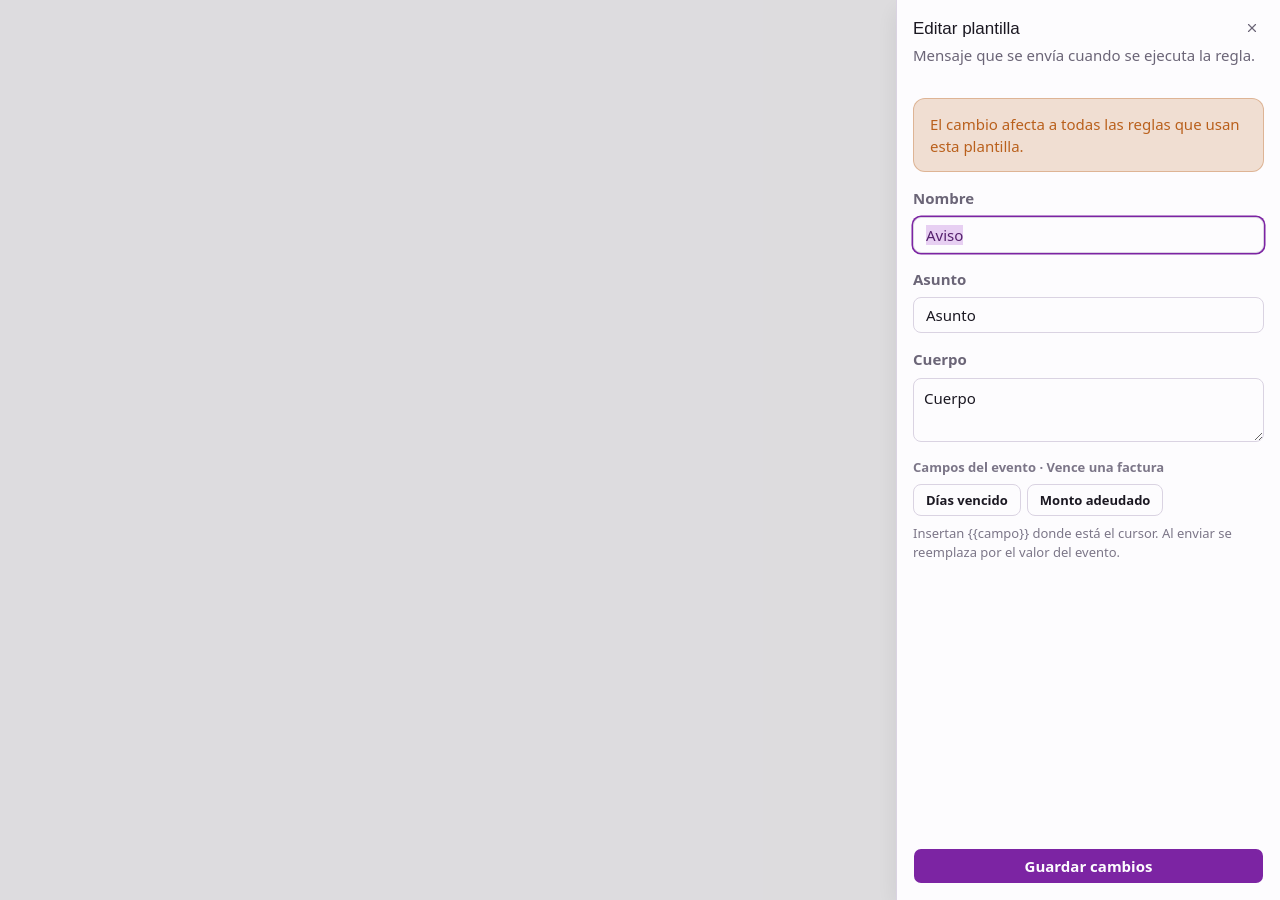
PlantillaSheet › muestra el detalle del backend ante un 409 sin cerrar
Click the button "Guardar cambios" at (1088, 866), box [913,848,1264,884]
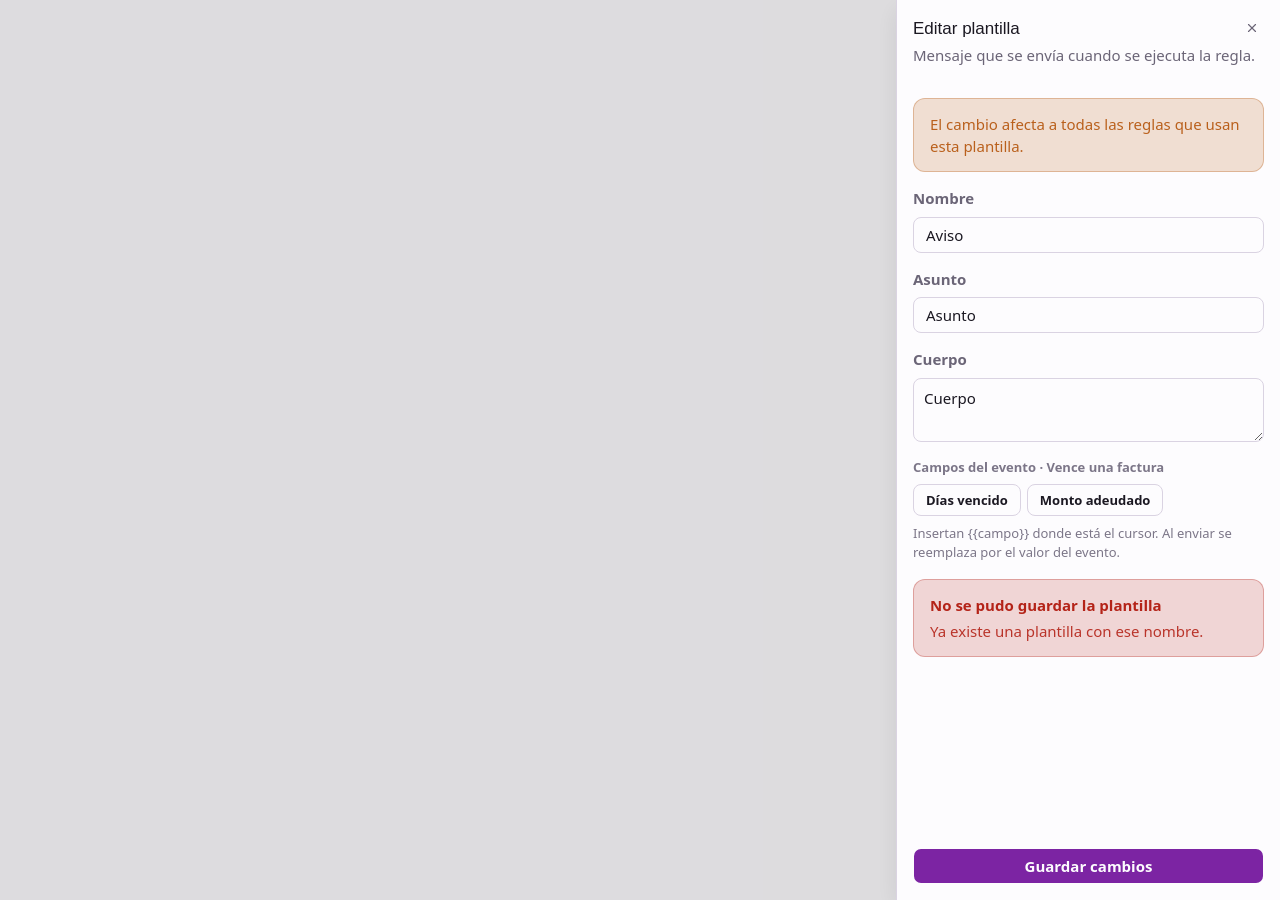
Expected: the text "Ya existe una plantilla con ese nombre." is shown, [930,620,1247,642]
